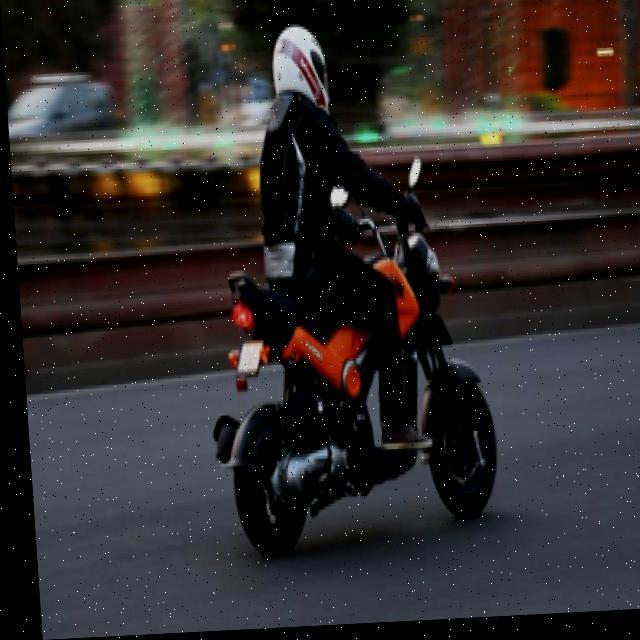Helmet: (268, 23, 330, 128)
